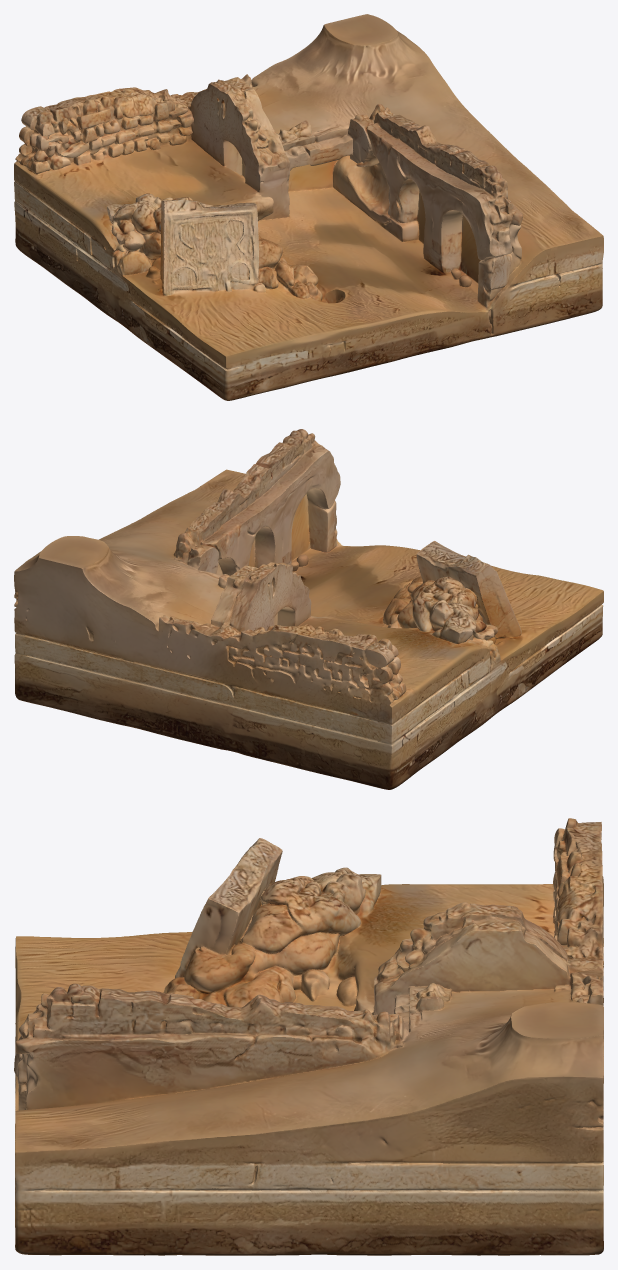
File: base_basic_pbr.glb
3 views of the same model, one above another, from view 1: azimuth 30°, elevation 25°; view 2: azimuth 150°, elevation 25°; view 3: azimuth 270°, elevation 25° (orthographic). The views are drawn at different scales.
Parts seen in each view (by area): view 1: model; view 2: model; view 3: model.
Boxes of the visible parts, bbox=[...] form: model: bbox=[14, 14, 603, 400]; model: bbox=[14, 429, 603, 789]; model: bbox=[14, 818, 603, 1255].
Bounding box in the file's own units: 1.88 × 0.7176 × 1.82.
1 material, 1 textured.
